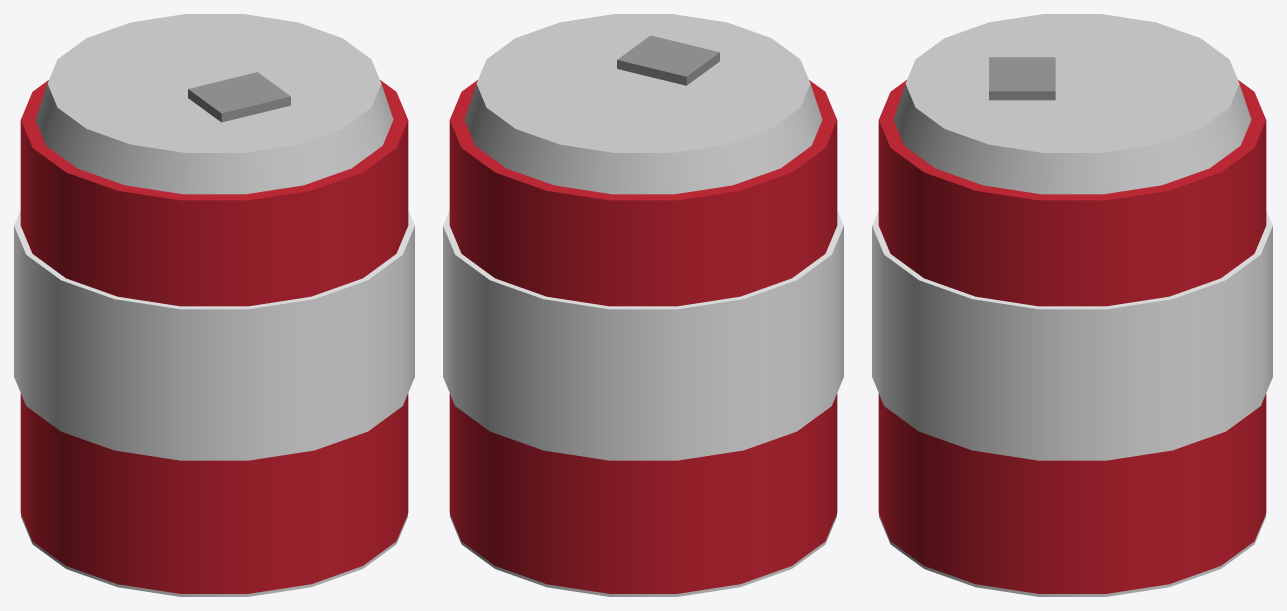
Rendered from item_soda.fbx.
3 views of the same model, side by side, from view 1: azimuth 30°, elevation 25°; view 2: azimuth 150°, elevation 25°; view 3: azimuth 270°, elevation 25° (orthographic).
Visible parts, largest first — view 1: M__item_soda; view 2: M__item_soda; view 3: M__item_soda.
Part boxes in pixels (bbox=[...]): M__item_soda: bbox=[14, 14, 414, 596]; M__item_soda: bbox=[443, 14, 843, 596]; M__item_soda: bbox=[872, 14, 1272, 596].
Bounding box in the file's own units: 0.1182 × 0.146 × 0.12.
